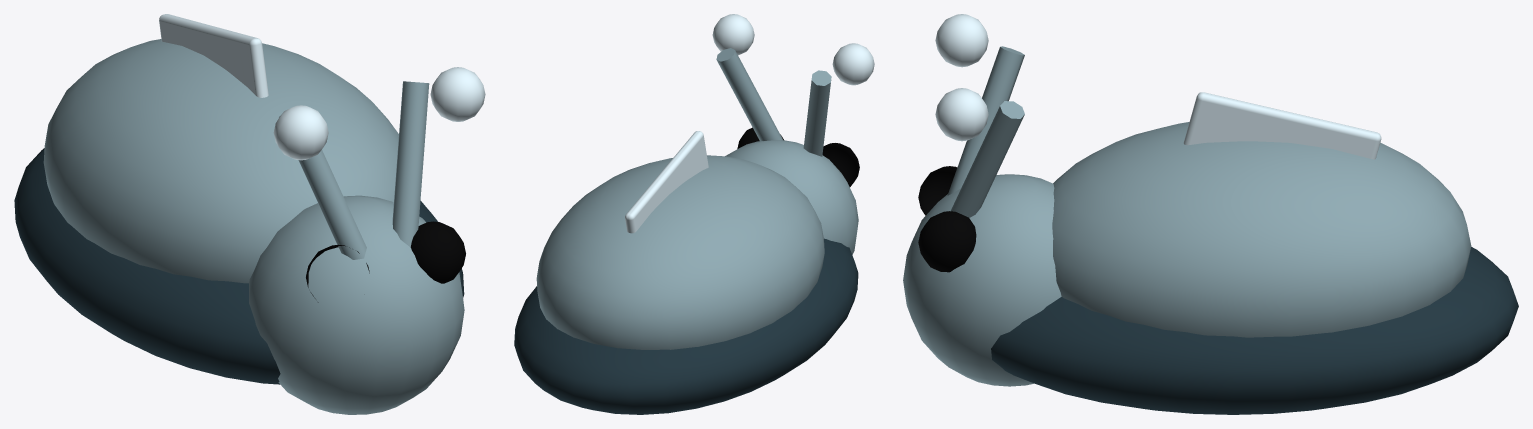
File: brisa.obj
3 views of the same model, side by side, from view 1: azimuth 30°, elevation 25°; view 2: azimuth 150°, elevation 25°; view 3: azimuth 270°, elevation 25° (orthographic). The views are drawn at different scales.
Bounding box in the file's own units: 0.4 × 0.378 × 0.647.
